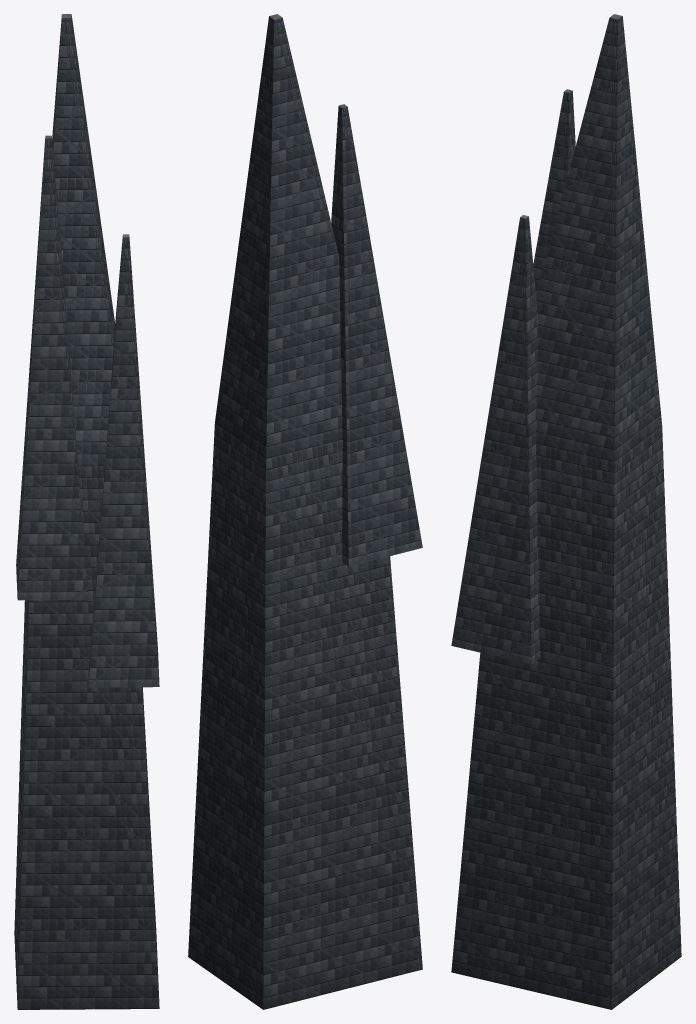
Rendered from moma53.glb.
3 views of the same model, side by side, from view 1: azimuth 30°, elevation 25°; view 2: azimuth 150°, elevation 25°; view 3: azimuth 270°, elevation 25° (orthographic). The views are drawn at different scales.
Visible parts, largest first — view 1: moma53; view 2: moma53; view 3: moma53.
Boxes of the visible parts, bbox=[...] form: moma53: bbox=[14, 14, 159, 1009]; moma53: bbox=[188, 14, 422, 1009]; moma53: bbox=[451, 14, 681, 1009].
Size of the model in its own units: 65.63 by 320 by 70.31.
8 materials, 8 textured.
